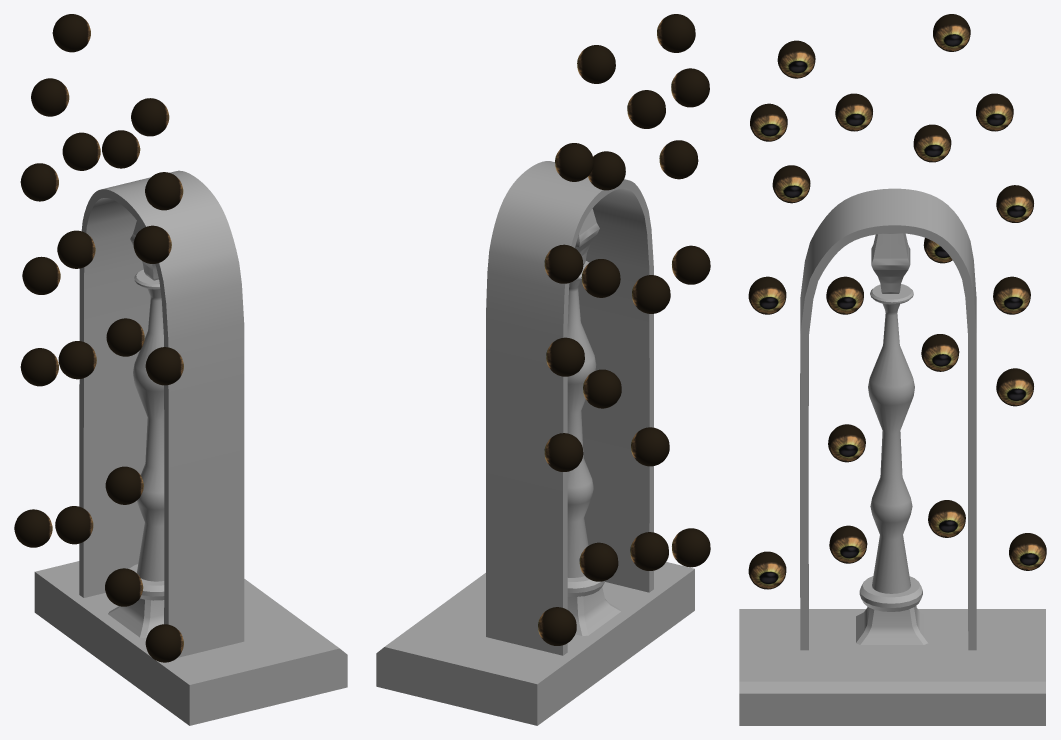
The model's file is theater_puzzle_pillar 1.fbx.
The picture shows the model from 3 angles, left to right: view 1: azimuth 30°, elevation 25°; view 2: azimuth 150°, elevation 25°; view 3: azimuth 270°, elevation 25°; orthographic projection. The views are drawn at different scales.
Visible parts, largest first — view 1: group165_pCylinder5; view 2: group165_pCylinder5; view 3: group165_pCylinder5.
Boxes of the visible parts, box(x1,y1,x2,y2) form: group165_pCylinder5: box(14, 14, 347, 725); group165_pCylinder5: box(376, 14, 710, 725); group165_pCylinder5: box(739, 14, 1046, 725).
Bounding box in the file's own units: 731 × 2396 × 1063.
